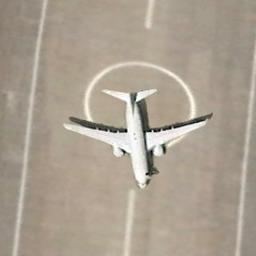Airplane: (64, 80, 210, 192)
